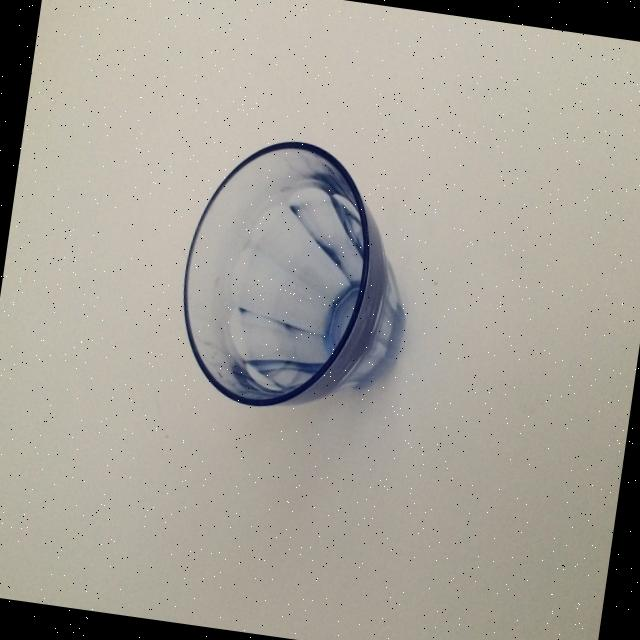glass: (168, 127, 428, 426)
